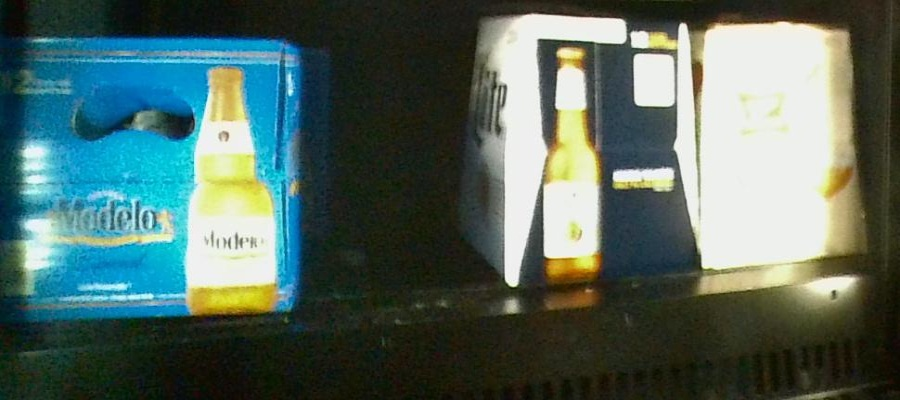bottle: (1, 38, 302, 315), (474, 12, 697, 288), (700, 22, 866, 262)
